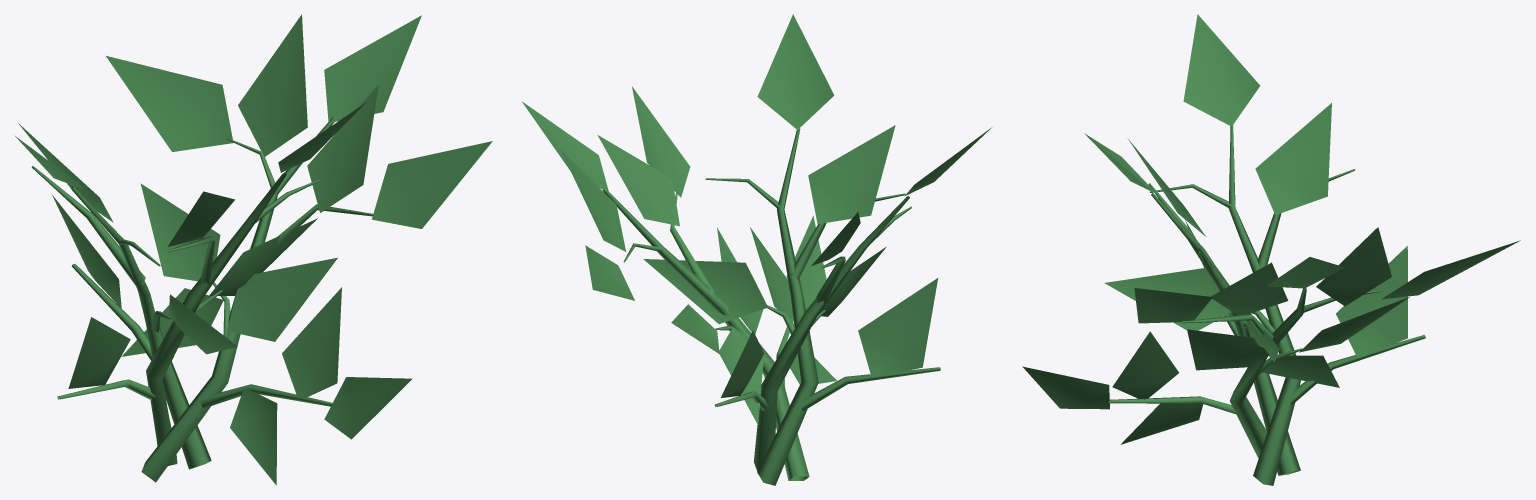
Rendered from plant5.fbx.
The picture shows the model from 3 angles, left to right: view 1: azimuth 30°, elevation 25°; view 2: azimuth 150°, elevation 25°; view 3: azimuth 270°, elevation 25°; orthographic projection. The views are drawn at different scales.
Visible parts, largest first — view 1: plant5; view 2: plant5; view 3: plant5.
Boxes of the visible parts, x1,y1,x2,y2 form: plant5: [14, 14, 492, 485]; plant5: [522, 14, 993, 485]; plant5: [1022, 14, 1520, 485].
Bounding box in the file's own units: 3.13 × 2.71 × 3.2.
